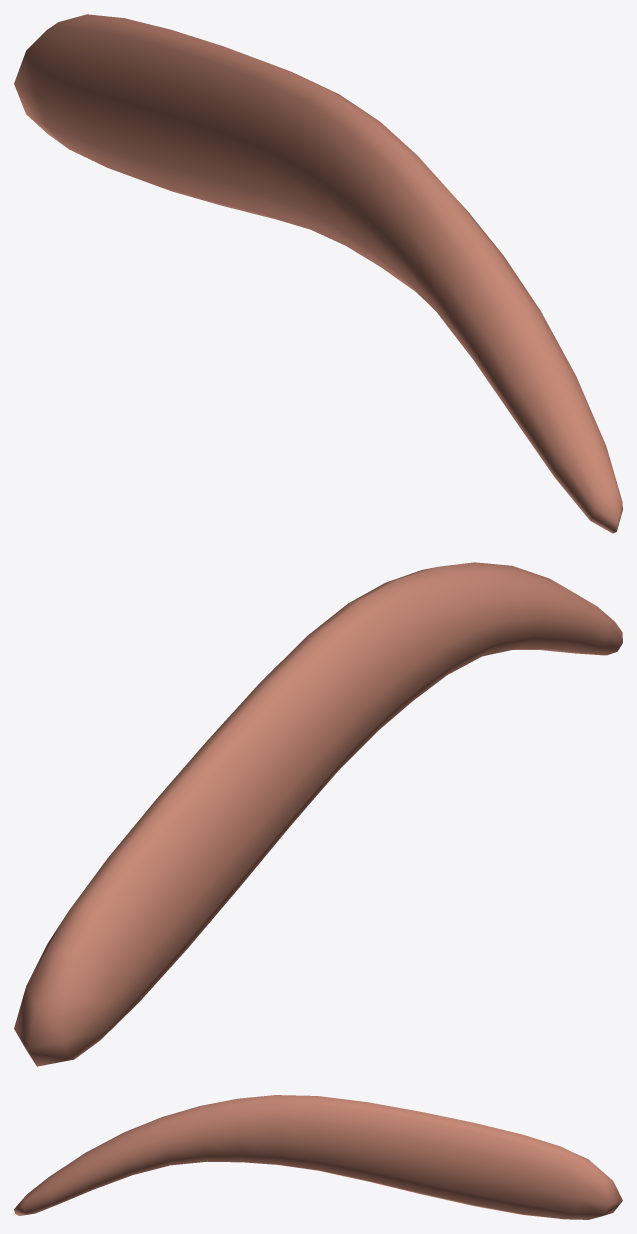
The model's file is Eyebrow.fbx.
The picture shows the model from 3 angles, top to bottom: view 1: azimuth 30°, elevation 25°; view 2: azimuth 150°, elevation 25°; view 3: azimuth 270°, elevation 25°; orthographic projection. The views are drawn at different scales.
Visible parts, largest first — view 1: Cube; view 2: Cube; view 3: Cube.
Boxes of the visible parts, x1,y1,x2,y2 form: Cube: (14,14,622,533); Cube: (14,562,622,1066); Cube: (14,1095,622,1219).
Size of the model in its own units: 41.77 by 126 by 561.
